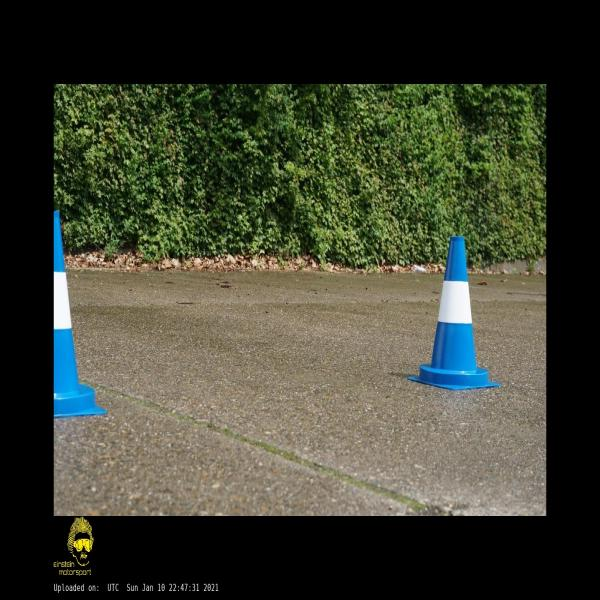blue_cone: (407, 236, 500, 390), (54, 209, 106, 418)
